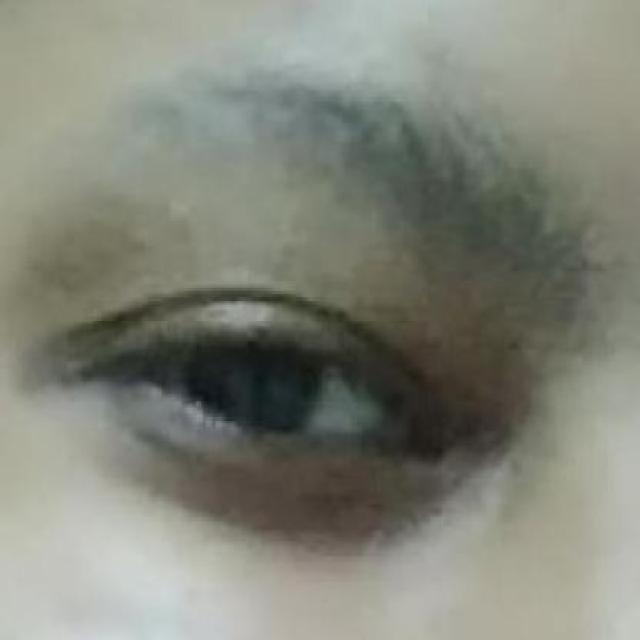awake: (77, 290, 434, 482)
